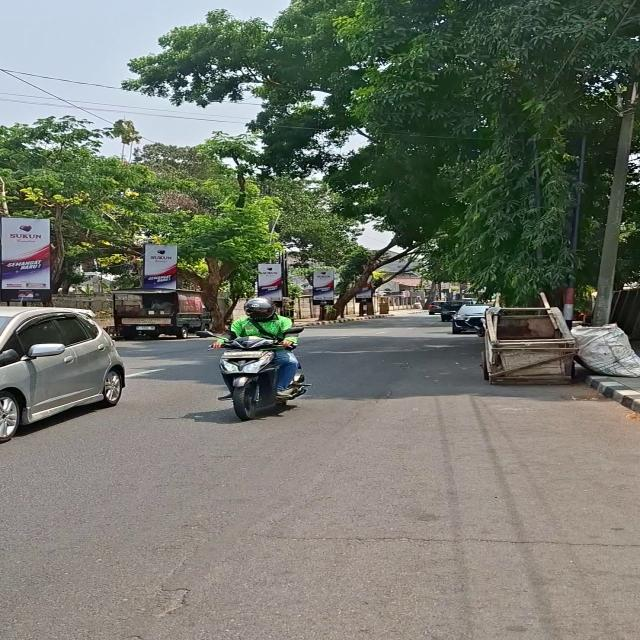WithHelmet: (211, 297, 303, 400)
